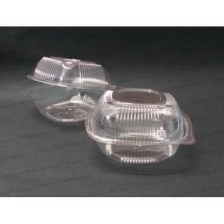plastic_box: (77, 79, 202, 172), (21, 49, 122, 130)
